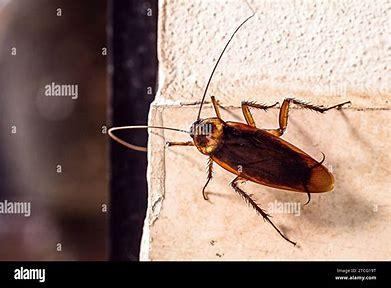cockroach: (113, 33, 349, 248)
